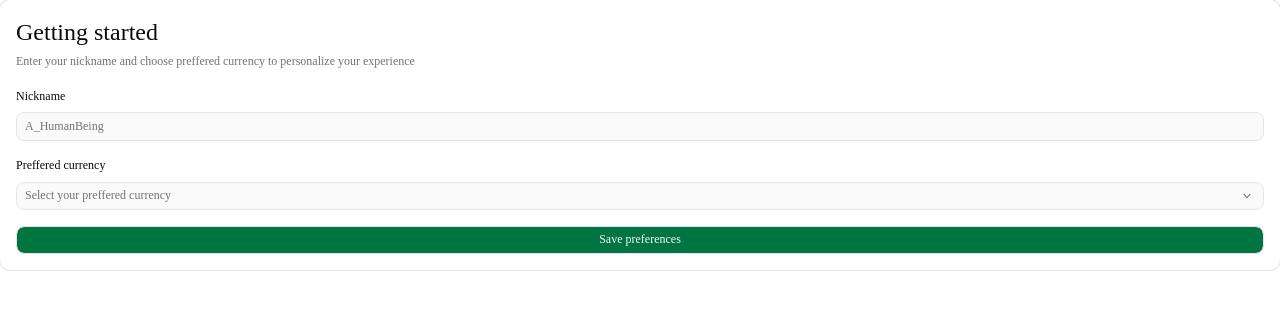
Test case: CreateUserForm › should list every currency it receives
Press the mouse on the dropdown: (626, 196) [17,182,1235,210]
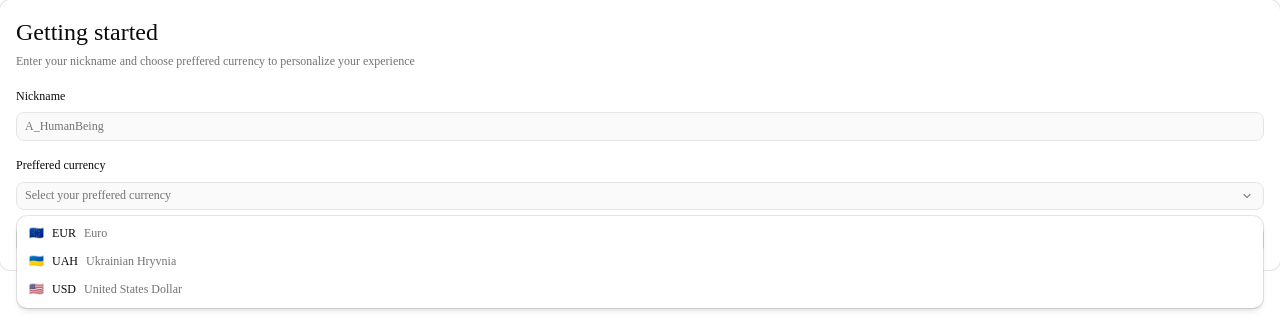
Result: the list is shown at [29,226,182,296]
Result: the option "🇪🇺 EUR Euro" is shown at [29,226,107,240]
Result: the option "🇺🇦 UAH Ukrainian Hryvnia" is shown at [29,254,176,268]
